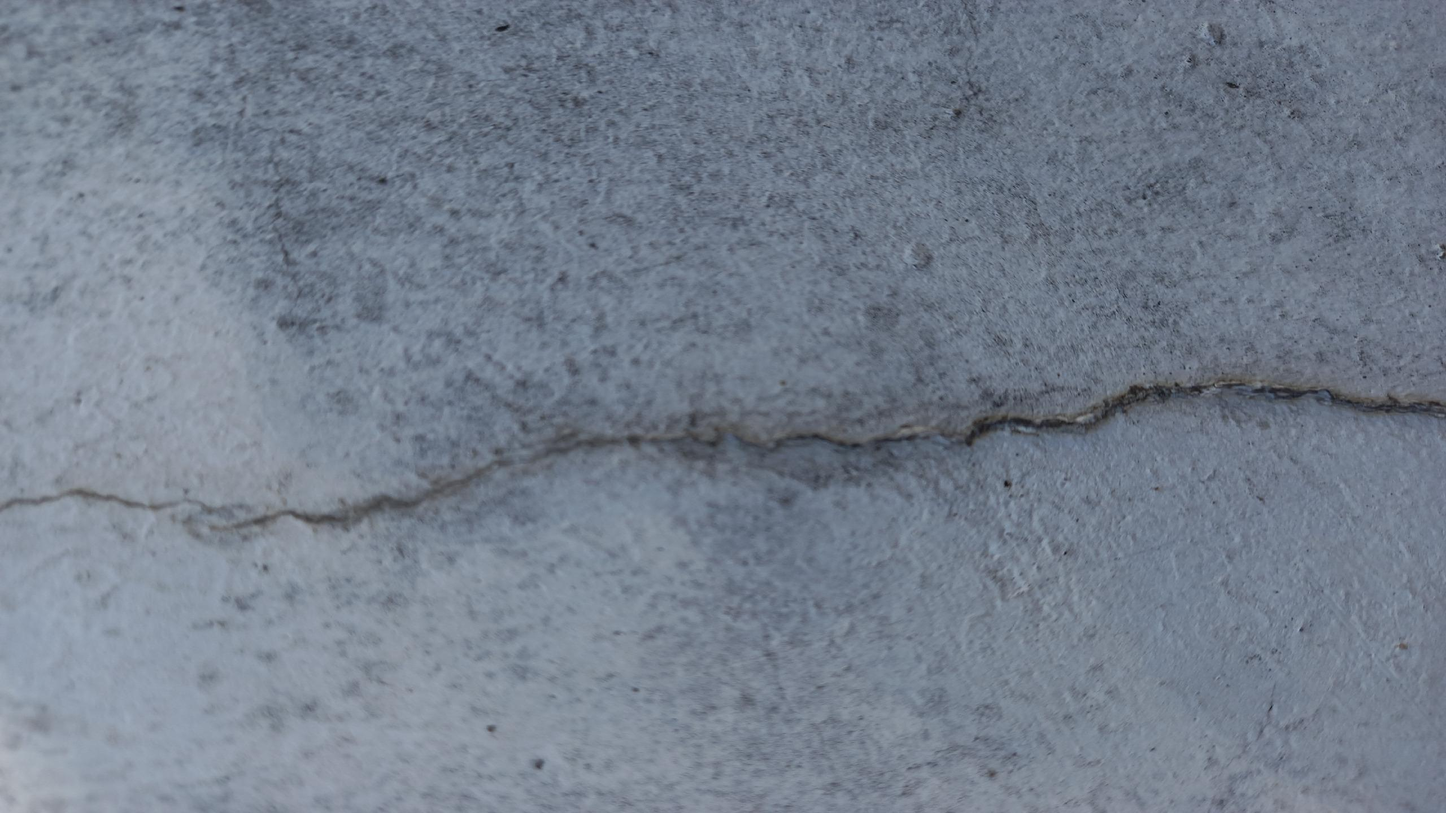crack: (0, 380, 1438, 531)
